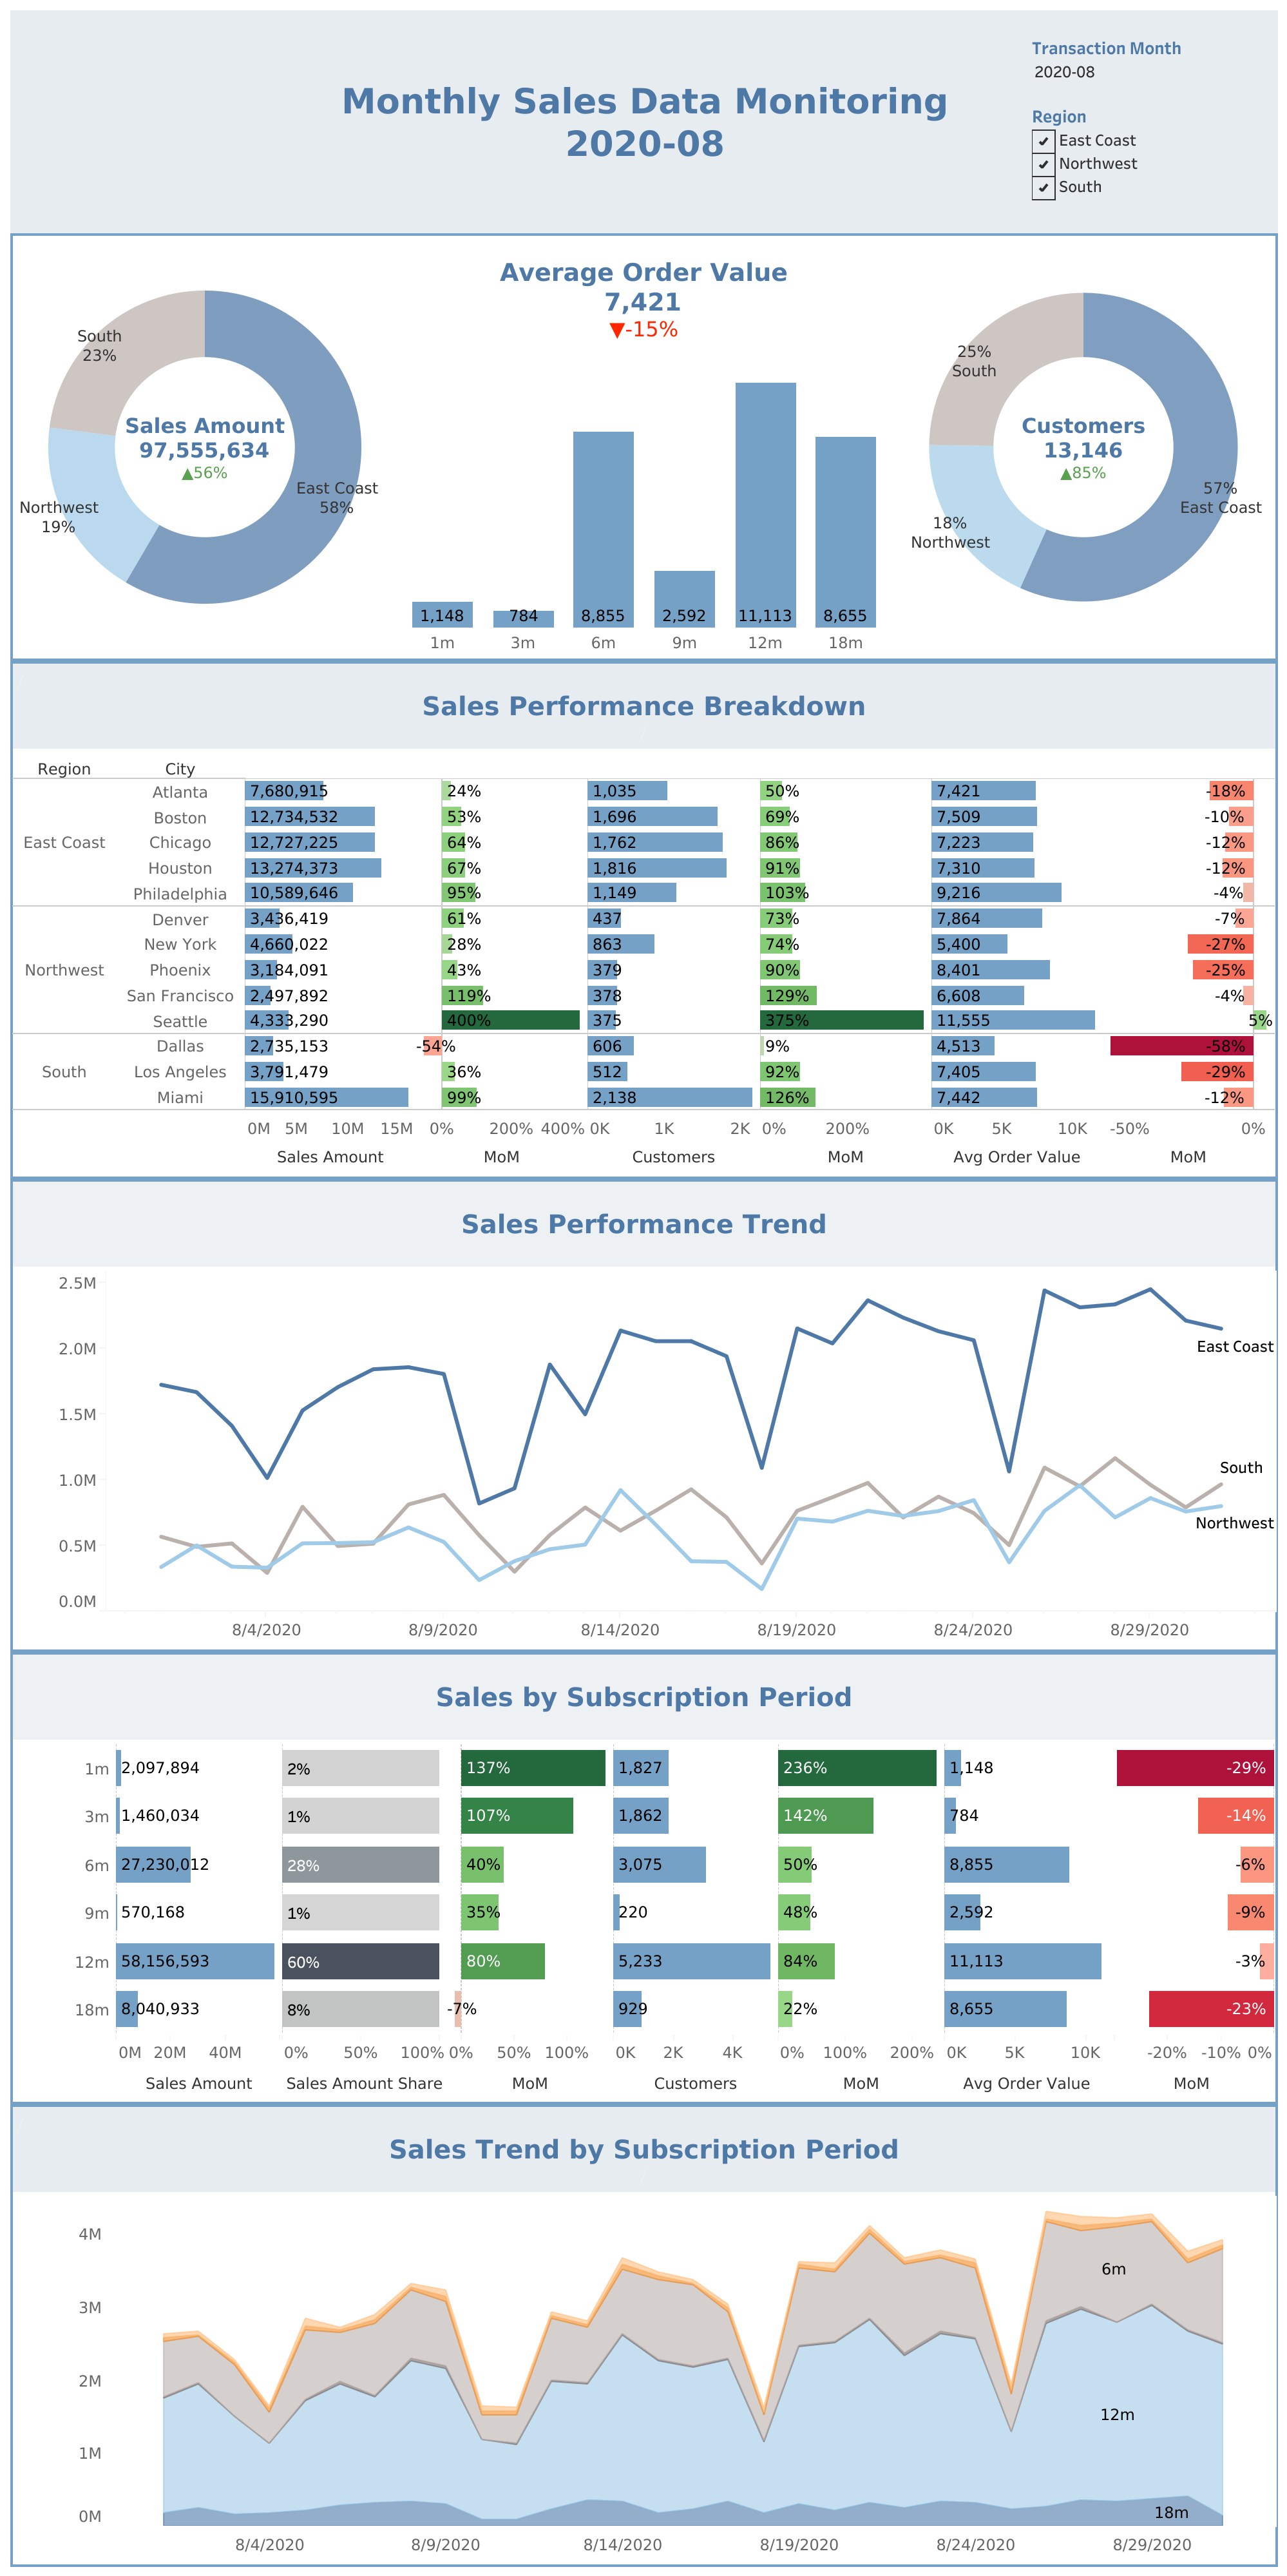

This screenshot's page, from the dashboard's own definition file:
{"tool":"tableau","page":{"name":"Sales Date Monitoring","canvas":[1000,2000],"ordinal":0},"visuals":[{"type":"blank","box":[8,8,183,173]},{"type":"text","box":[191,8,609.9,173]},{"type":"parameter","param":"[Parameters].[成交月份 Parameter]","box":[800.9,8,191.1,71]},{"type":"filter","title":"成交客户数占比环形图","param":"[federated.0gukniy1mnx90v10qisho1olzxzw].[none:region:nk]","box":[800.9,79,191.1,102]},{"type":"worksheet","title":"成交金额占比环形图","mark":"Pie","rows":["Calculation_140737552442023937","Calculation_140737552442056707"],"box":[10,183,298,328]},{"type":"worksheet","title":"客单价指标卡","mark":"Automatic","box":[308,183,384,99.7]},{"type":"worksheet","title":"成交客户数占比环形图","mark":"Pie","rows":["Calculation_140737552442023937","Calculation_140737552442056707"],"box":[692,183,298,328]},{"type":"worksheet","title":"客单价柱状图","mark":"Automatic","rows":["Calculation_569353573138911232"],"cols":["period"],"box":[308,282.7,384,228.3]},{"type":"worksheet","title":"销售成交数据","mark":"Automatic","rows":["region","city"],"cols":["Calculation_486811036191916034","Calculation_486811036193669124","本月成交金额 (copy)_486811036202106891","成交金额月环比 (copy)_486811036202270732","Calculation_569353573138911232","Calculation_569353573139255298"],"box":[8,513,984,402]},{"type":"worksheet","title":"销售成交趋势折线图","mark":"Automatic","rows":["Calculation_486811036191916034"],"cols":["transaction_date"],"box":[8,915,984,367]},{"type":"worksheet","title":"期数成交数据","mark":"Automatic","rows":["period"],"cols":["Calculation_486811036191916034","Calculation_486811036193669124","本月成交金额 (copy)_486811036202106891","成交金额月环比 (copy)_486811036202270732","Calculation_569353573138911232","Calculation_569353573139255298"],"box":[8,1282,984,351]},{"type":"worksheet","title":"期数成交趋势面积图","mark":"Area","rows":["Calculation_486811036191916034"],"cols":["transaction_date"],"box":[8,1633,984,359]}]}

Visuals, with their boxes in screenshot pixels (x1, y1, x2, y2), scaled from the page's 1000x2000 canvas onto the 1287x2576 screenshot:
blank: 10,10,246,233
text: 246,10,1031,233
parameter: 1031,10,1277,102
"成交客户数占比环形图" filter: 1031,102,1277,233
"成交金额占比环形图" worksheet (Pie marks): 13,236,396,658
"客单价指标卡" worksheet: 396,236,891,364
"成交客户数占比环形图" worksheet (Pie marks): 891,236,1274,658
"客单价柱状图" worksheet: 396,364,891,658
"销售成交数据" worksheet: 10,660,1277,1178
"销售成交趋势折线图" worksheet: 10,1178,1277,1651
"期数成交数据" worksheet: 10,1651,1277,2103
"期数成交趋势面积图" worksheet (Area marks): 10,2103,1277,2566
